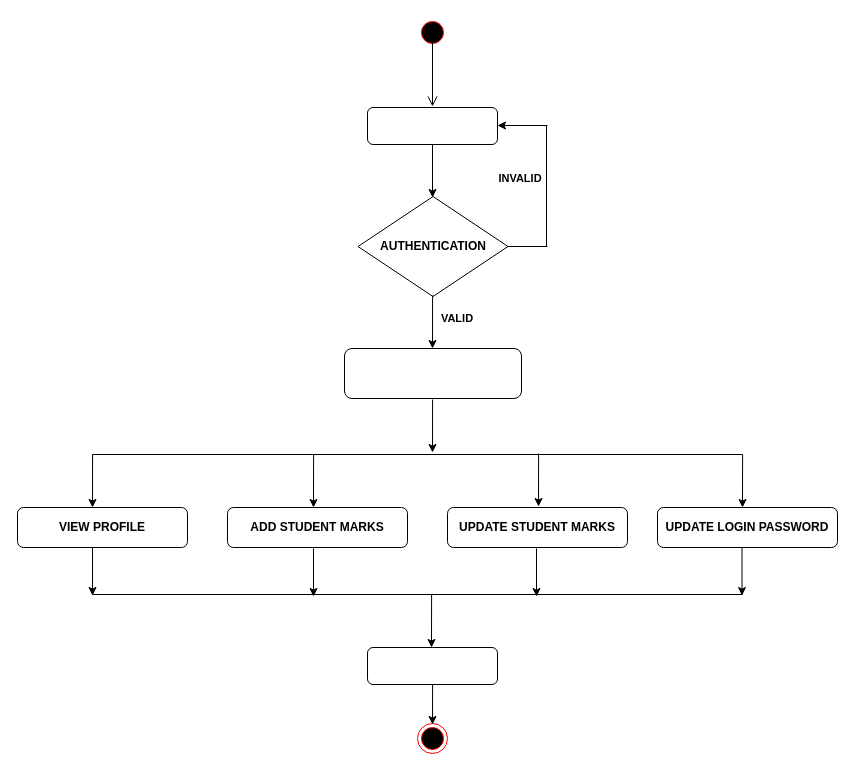
This 855x771 diagram has some shape labels left out. Each missing label, with the box of its shape:
LOGIN: (366, 106, 498, 144)
LOGOUT: (366, 646, 498, 684)
TEACHER DASHBOARD: (344, 348, 522, 398)
